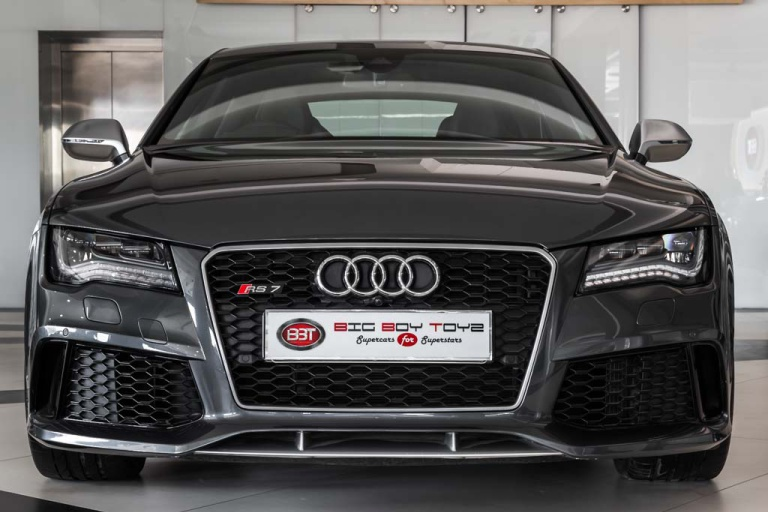audi: (311, 252, 447, 300)
